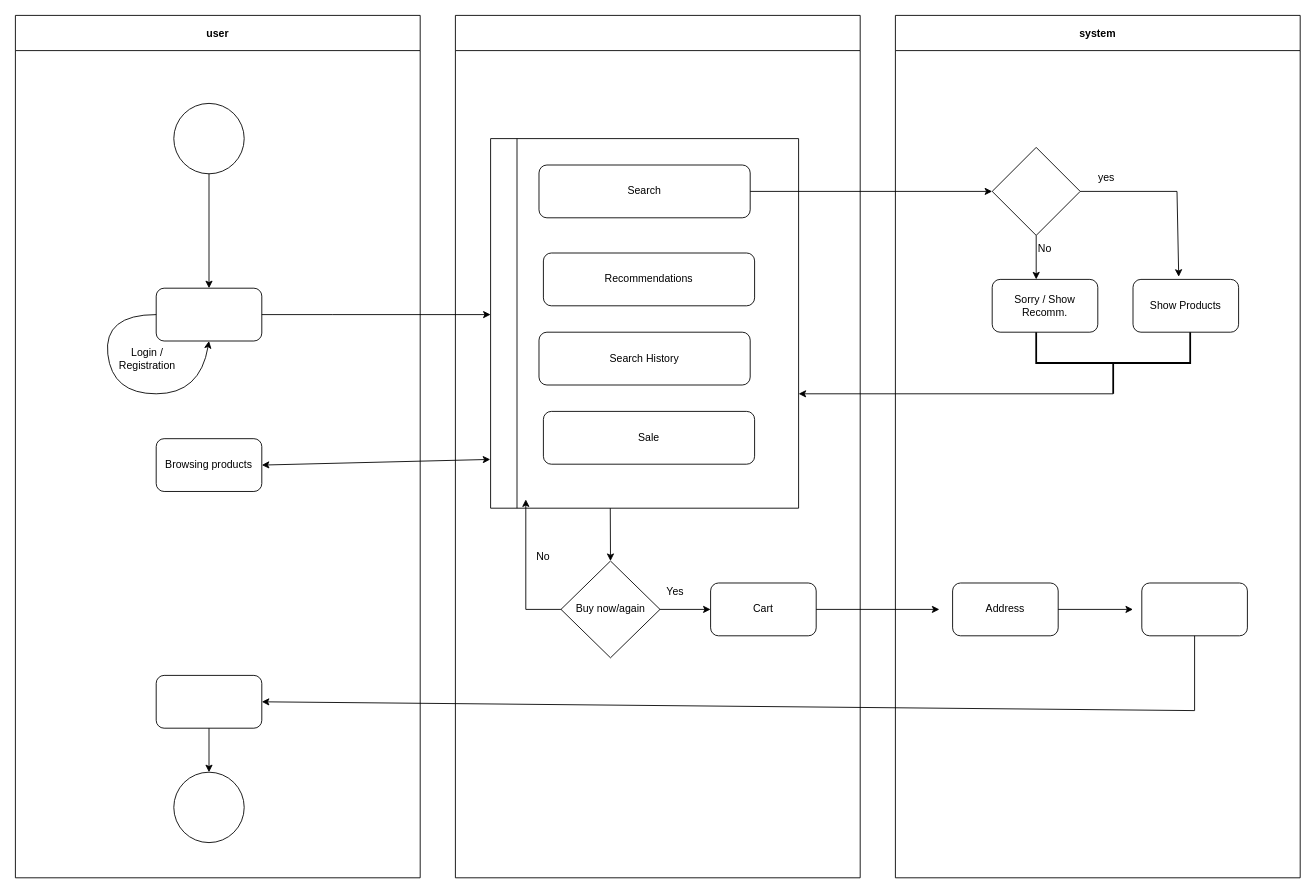
The diagram is 1316 pixels wide and 893 high, and some of its shapes have lost their labels. Here are the shapes that lost their labels. From the top down, the box of each, then its label:
(991, 147, 1080, 235): Product found
(155, 287, 262, 341): Validation
(490, 138, 799, 508): Products
(455, 15, 860, 878): app
(1141, 582, 1247, 636): Payments
(155, 675, 262, 728): success
